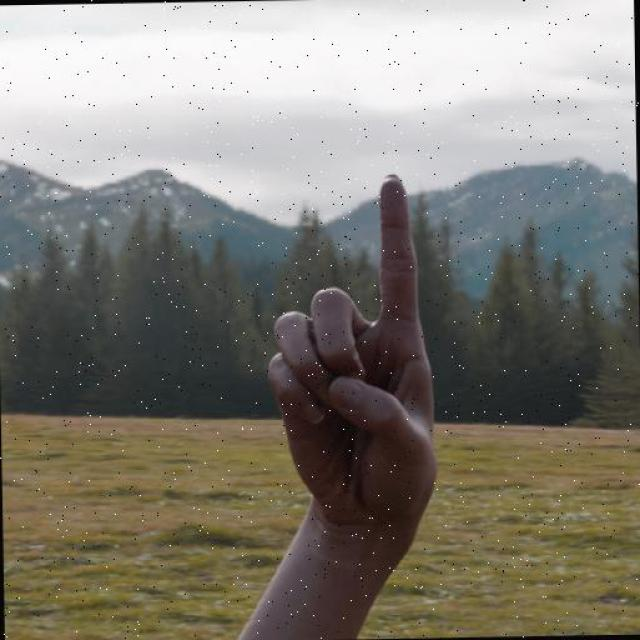D: (262, 170, 443, 540)
